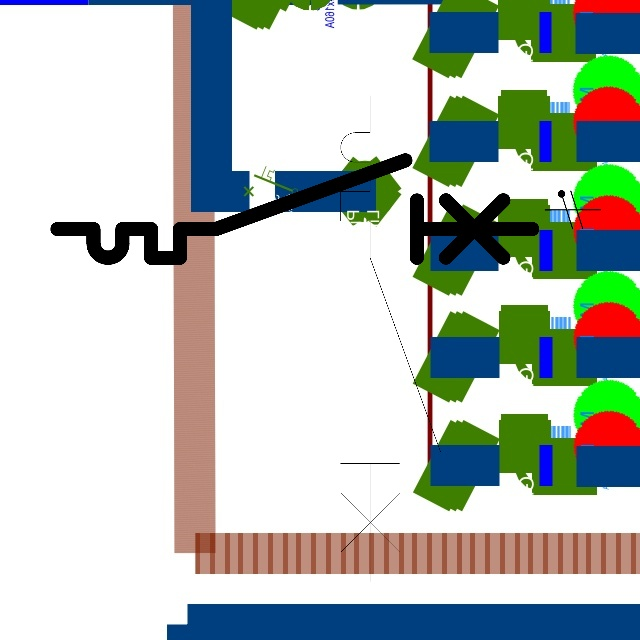interruptor_termomagnetico: (328, 83, 453, 593), (45, 148, 544, 270)
